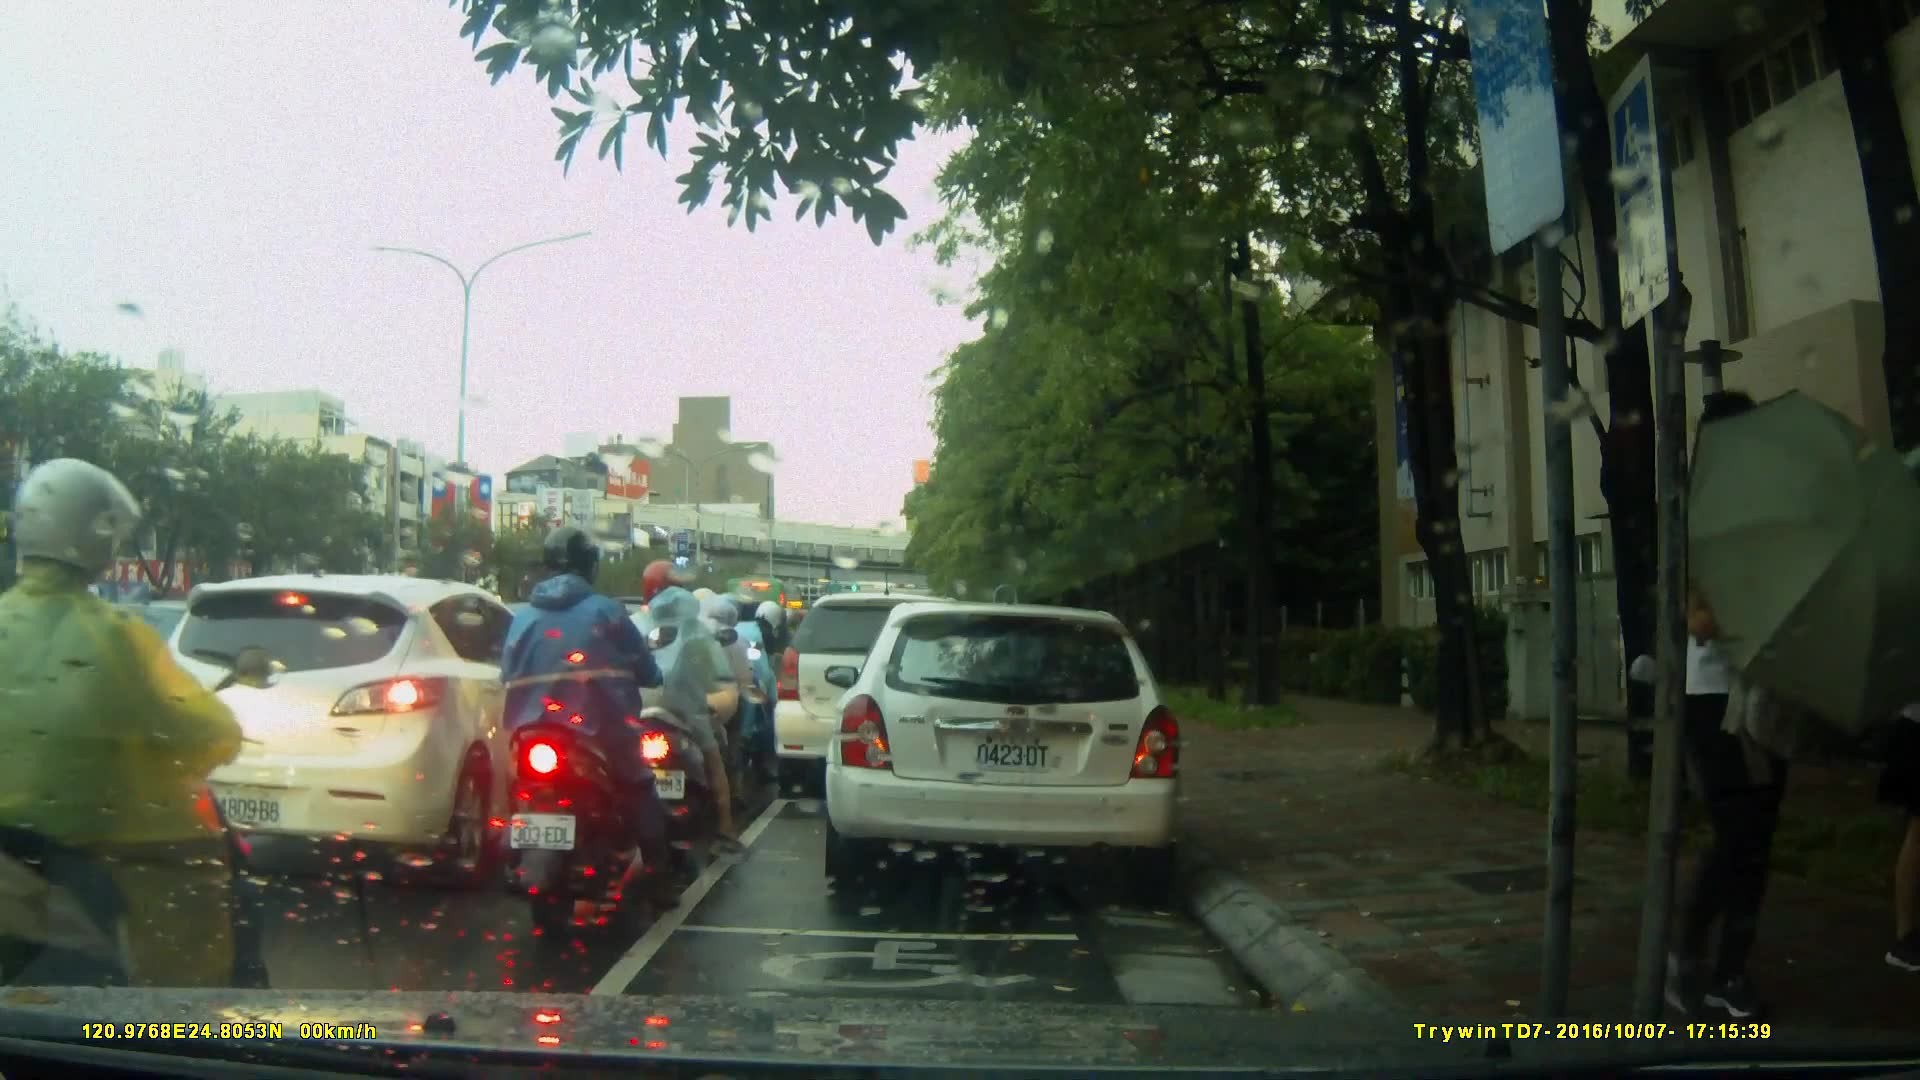pedestrian: (1648, 420, 1809, 1004)
rider: (1, 462, 299, 1077), (492, 524, 682, 927), (597, 560, 742, 862), (642, 581, 764, 823), (718, 594, 788, 767)
vehicle: (115, 570, 588, 883), (822, 604, 1188, 883), (774, 595, 995, 802), (38, 600, 277, 736)
